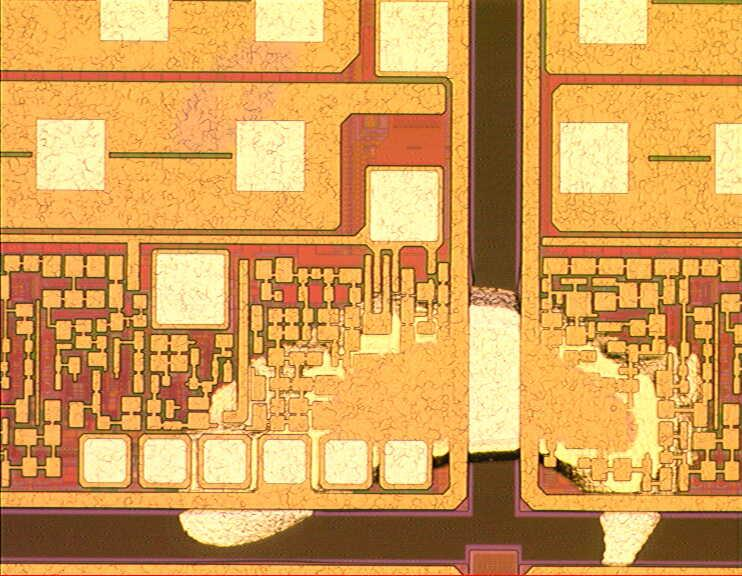BLOCK ETCH: (172, 280, 705, 576)
